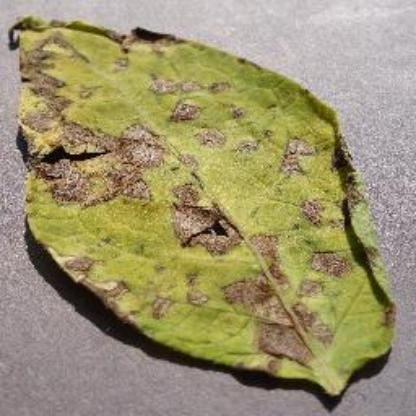Early-Blight: (6, 11, 404, 397)
